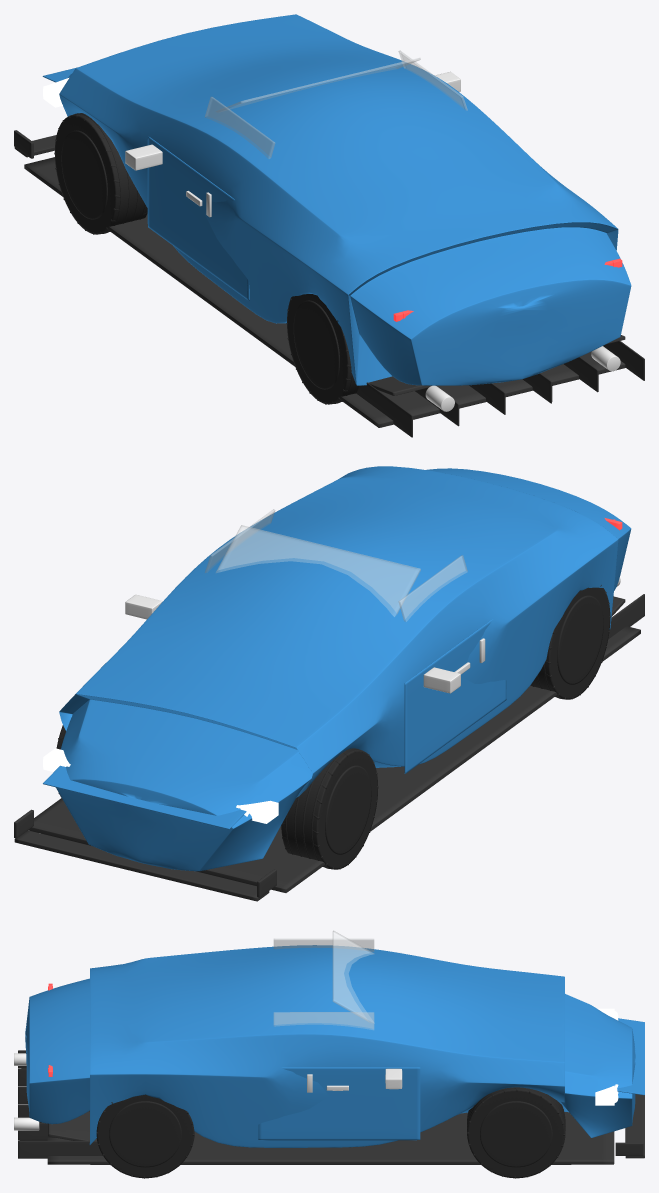
File: Car_Nissan_350Z_Z33_2000s_Complete.glb
3 renders of one model, top to bottom at view 1: azimuth 30°, elevation 25°; view 2: azimuth 150°, elevation 25°; view 3: azimuth 270°, elevation 25°, orthographic. The views are drawn at different scales.
Visible parts, largest first — view 1: BODY_MainShell, UNDERBODY_FlatFloor, WHEEL_FL_Tire, BODY_Door_FL, WHEEL_RL_Tire, GLASS_Greenhouse, JEWELRY_Hardware, JEWELRY_350Z_DualExhaust, AERO_FrontSplitter; view 2: BODY_MainShell, UNDERBODY_FlatFloor, WHEEL_FL_Tire, GLASS_Greenhouse, BODY_Door_FL, WHEEL_RL_Tire, AERO_FrontSplitter, BODY_Hood, JEWELRY_Hardware, LIGHTING_Headlamps; view 3: BODY_MainShell, UNDERBODY_FlatFloor, BODY_Door_FR, WHEEL_FR_Tire, WHEEL_RR_Tire, GLASS_Greenhouse, AERO_FrontSplitter, BODY_Hood, LIGHTING_Headlamps, JEWELRY_Hardware, JEWELRY_350Z_DualExhaust.
Boxes of the visible parts, box(x1,y1,x2,y2) form: BODY_MainShell: box(59, 14, 631, 385); UNDERBODY_FlatFloor: box(24, 157, 644, 437); WHEEL_FL_Tire: box(54, 113, 147, 234); BODY_Door_FL: box(147, 136, 249, 301); WHEEL_RL_Tire: box(286, 294, 359, 404); GLASS_Greenhouse: box(205, 50, 467, 158); JEWELRY_Hardware: box(125, 71, 460, 206); JEWELRY_350Z_DualExhaust: box(425, 346, 620, 411); AERO_FrontSplitter: box(14, 130, 56, 158); BODY_MainShell: box(56, 466, 631, 871); UNDERBODY_FlatFloor: box(28, 594, 644, 892); WHEEL_FL_Tire: box(281, 748, 378, 869); GLASS_Greenhouse: box(205, 509, 467, 621); BODY_Door_FL: box(404, 619, 506, 773); WHEEL_RL_Tire: box(530, 585, 610, 699); AERO_FrontSplitter: box(14, 809, 276, 901); BODY_Hood: box(43, 765, 246, 829); JEWELRY_Hardware: box(125, 594, 470, 693); LIGHTING_Headlamps: box(43, 748, 278, 823); BODY_MainShell: box(25, 945, 635, 1147); UNDERBODY_FlatFloor: box(18, 1050, 614, 1164); BODY_Door_FR: box(258, 1067, 420, 1140); WHEEL_FR_Tire: box(467, 1087, 565, 1178); WHEEL_RR_Tire: box(96, 1094, 194, 1178); GLASS_Greenhouse: box(273, 930, 374, 1029); AERO_FrontSplitter: box(615, 1094, 644, 1158); BODY_Hood: box(617, 1018, 644, 1095); LIGHTING_Headlamps: box(595, 1008, 618, 1105); JEWELRY_Hardware: box(326, 952, 402, 1090); JEWELRY_350Z_DualExhaust: box(14, 1053, 39, 1130).
Size of what is drawn, in the model's own units: 2.15 by 1.28 by 4.51.
